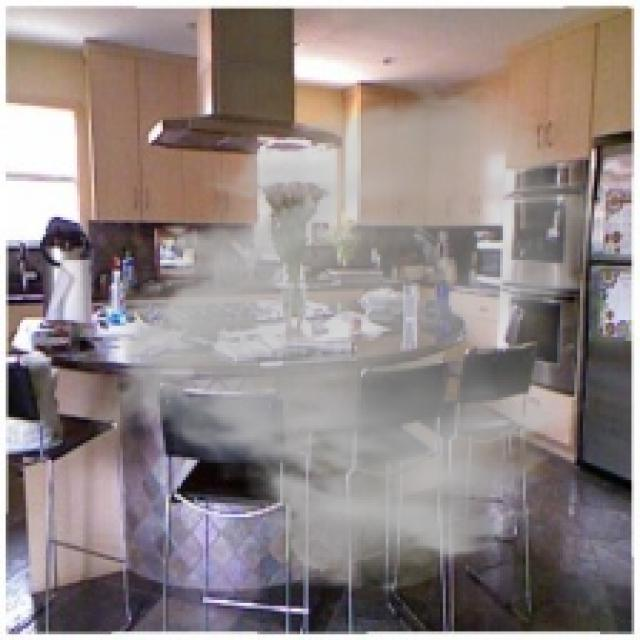Smoke: (86, 80, 608, 597)
